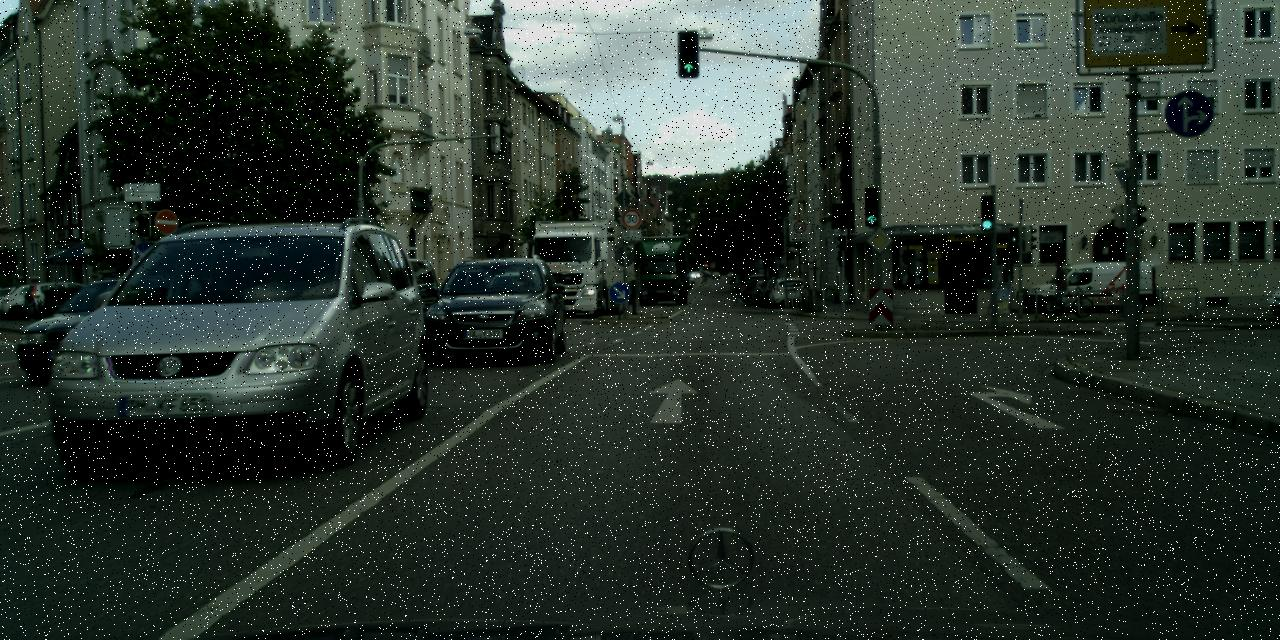ped: (1047, 259, 1069, 314)
